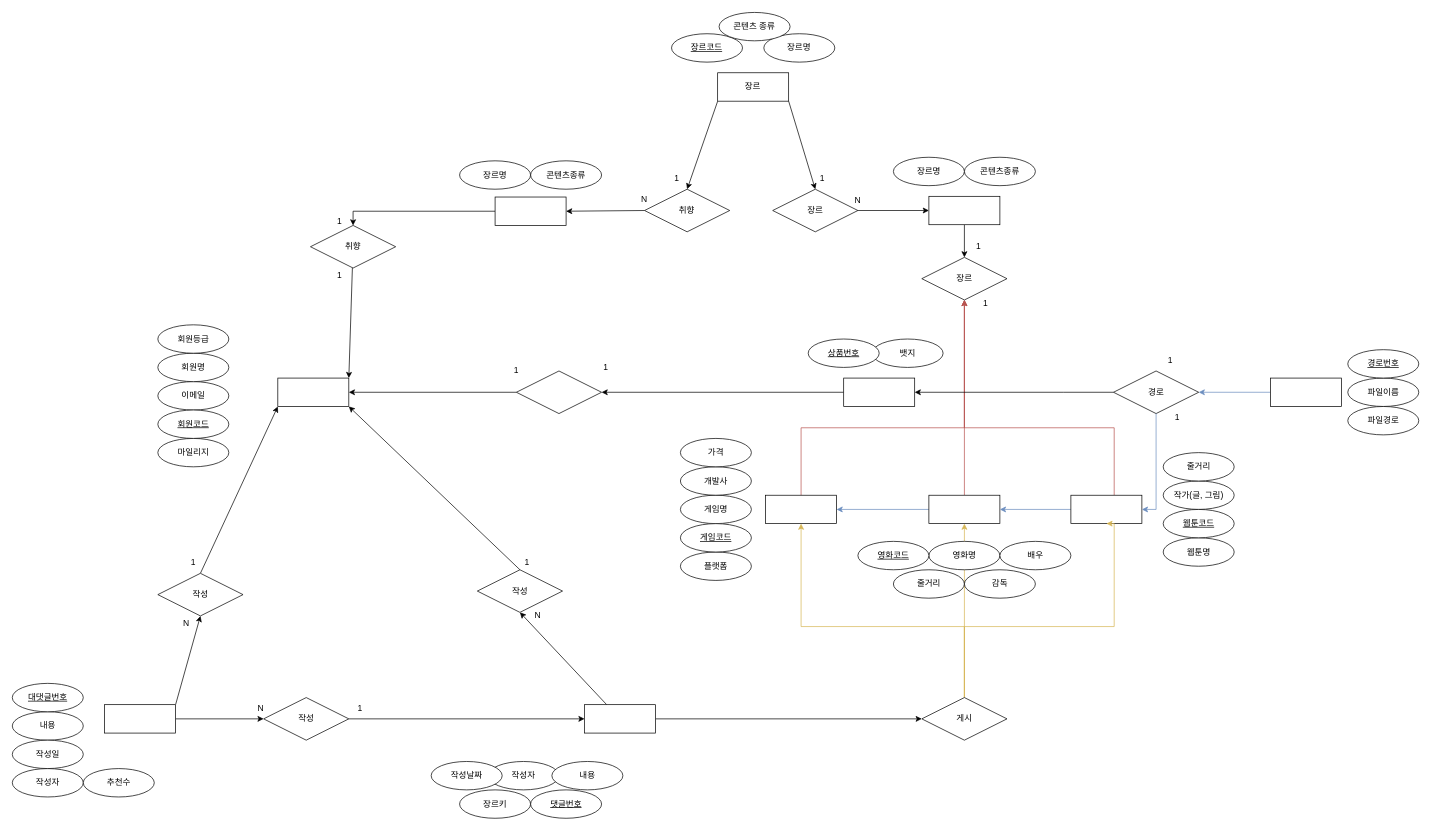
Image size: 1431x831. Some labels were removed from this diagram. Here are the shapes that lost their labels. From the top down, the box of each, then its label:
(494, 196, 566, 225): 유저 취향
(928, 196, 1000, 225): 콘텐츠 장르
(277, 377, 349, 406): 유저
(516, 370, 602, 414): 해금
(843, 377, 915, 406): 상품
(1270, 377, 1341, 406): 미디어 경로
(765, 495, 837, 524): 게임
(928, 495, 1000, 524): 영화
(1070, 495, 1142, 524): 웹툰
(104, 704, 176, 733): 대댓글
(584, 704, 656, 733): 댓글
